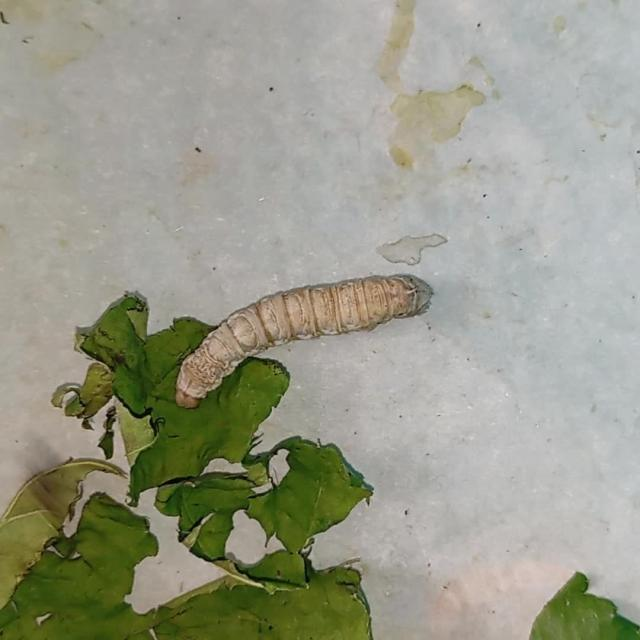Grasserie: (170, 251, 438, 415)
